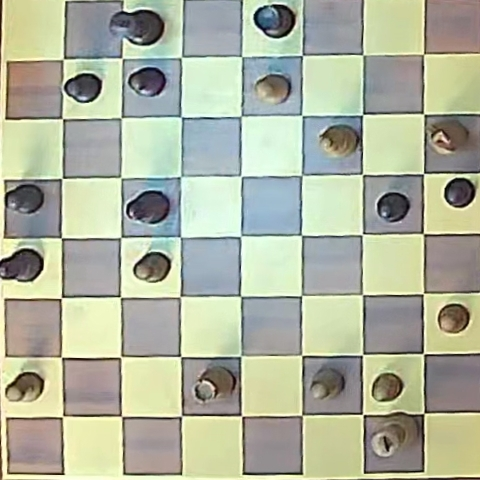black-bishop: (125, 190, 170, 225), (0, 248, 44, 282)
black-king: (110, 9, 164, 46)
black-pawn: (128, 66, 166, 97), (5, 184, 44, 214), (64, 73, 102, 102), (377, 192, 410, 223), (444, 178, 474, 208)
black-rook: (253, 3, 294, 38)
white-bishop: (318, 124, 359, 158)
white-king: (370, 414, 417, 458)
white-knight: (427, 120, 469, 154)
white-pawn: (5, 372, 44, 403), (134, 252, 171, 283), (310, 368, 343, 400), (255, 74, 290, 104), (371, 373, 403, 403), (438, 304, 469, 333)
white-rook: (193, 367, 235, 403)
